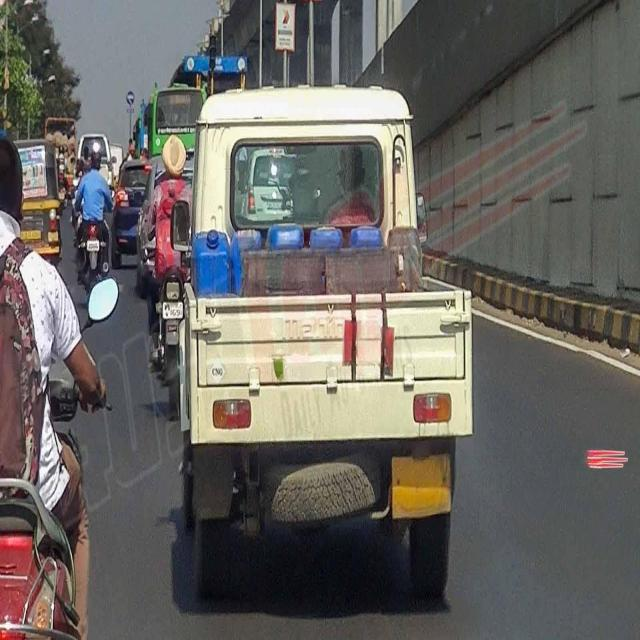autorickshaw: (16, 140, 61, 262)
bus: (145, 84, 206, 158)
car: (111, 160, 151, 269)
motorcycle: (0, 136, 119, 639), (148, 142, 190, 420), (75, 142, 112, 294)
truck: (171, 89, 472, 601)
